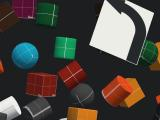Left: (89, 0, 154, 65)
